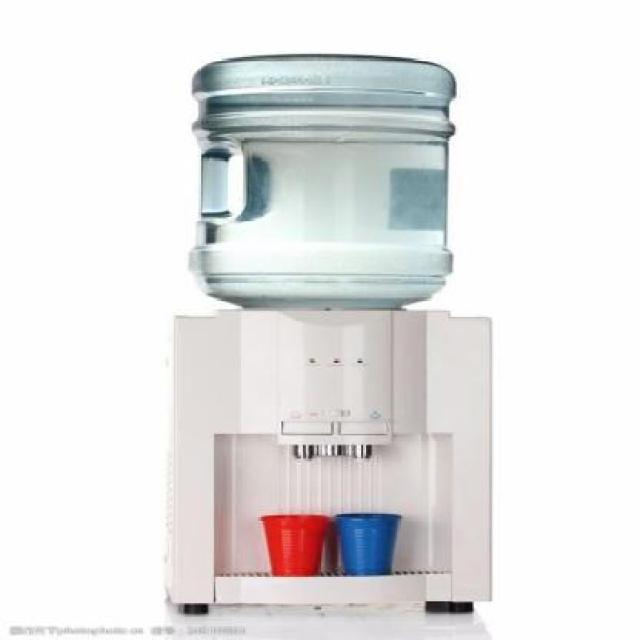cooler: (163, 51, 495, 618)
coolerbottle: (189, 48, 463, 313)
